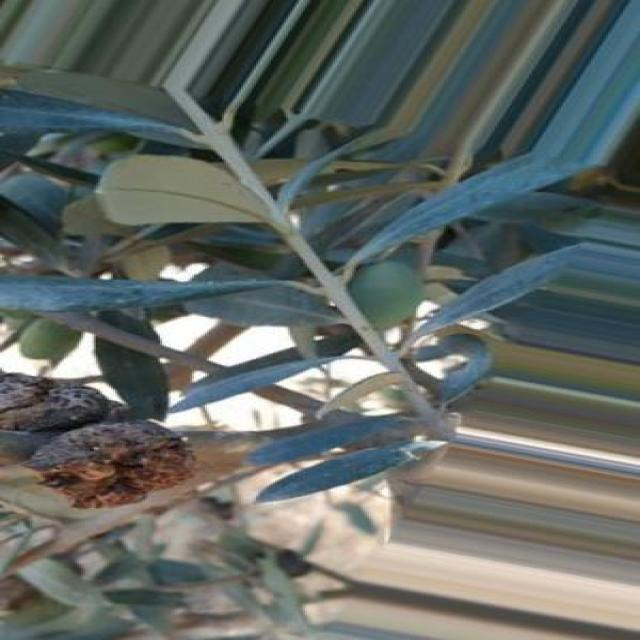Tuberculosis: (0, 372, 196, 506)
